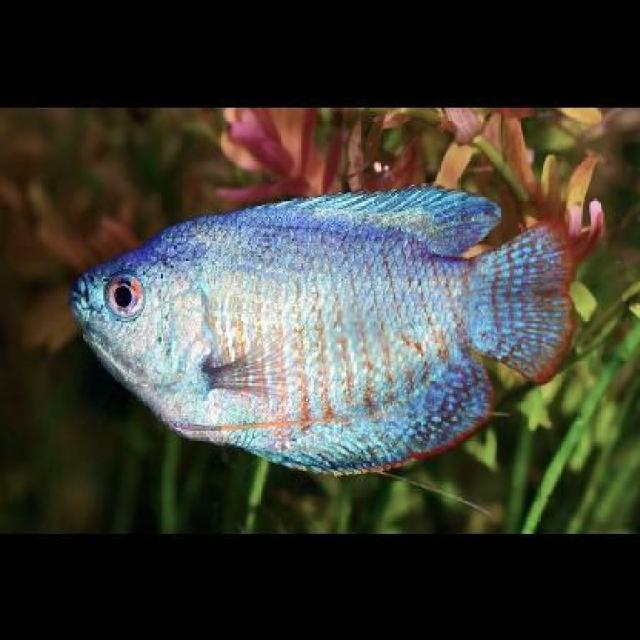Gourami: (68, 182, 574, 473)
